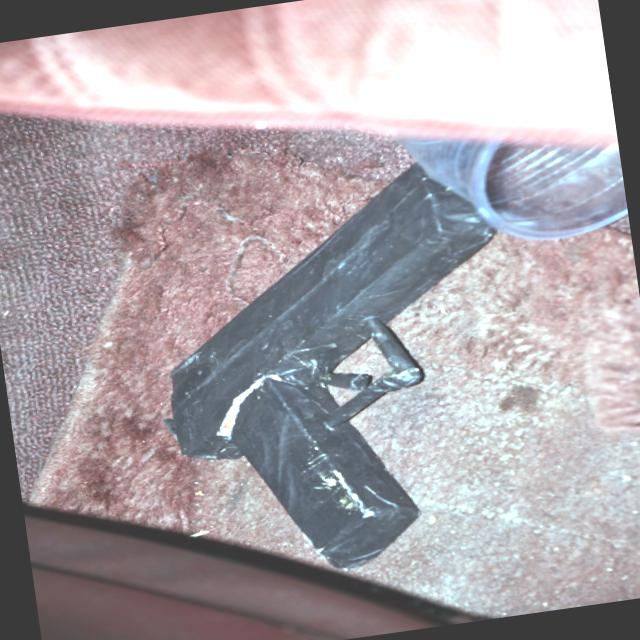handgun: (127, 149, 542, 594)
